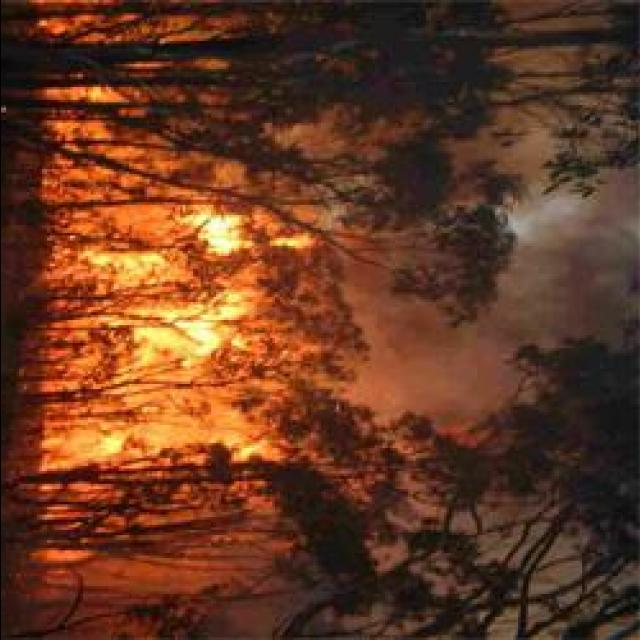fire: (108, 296, 252, 368), (72, 243, 168, 305), (168, 211, 250, 261), (38, 427, 128, 472)
smoke: (504, 194, 636, 342), (352, 330, 516, 410)
